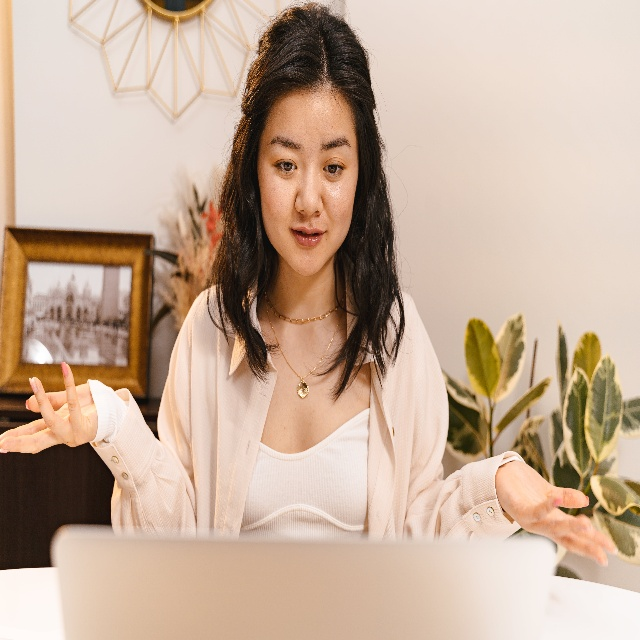Sin_guantes: (495, 455, 620, 568), (0, 359, 103, 459)
